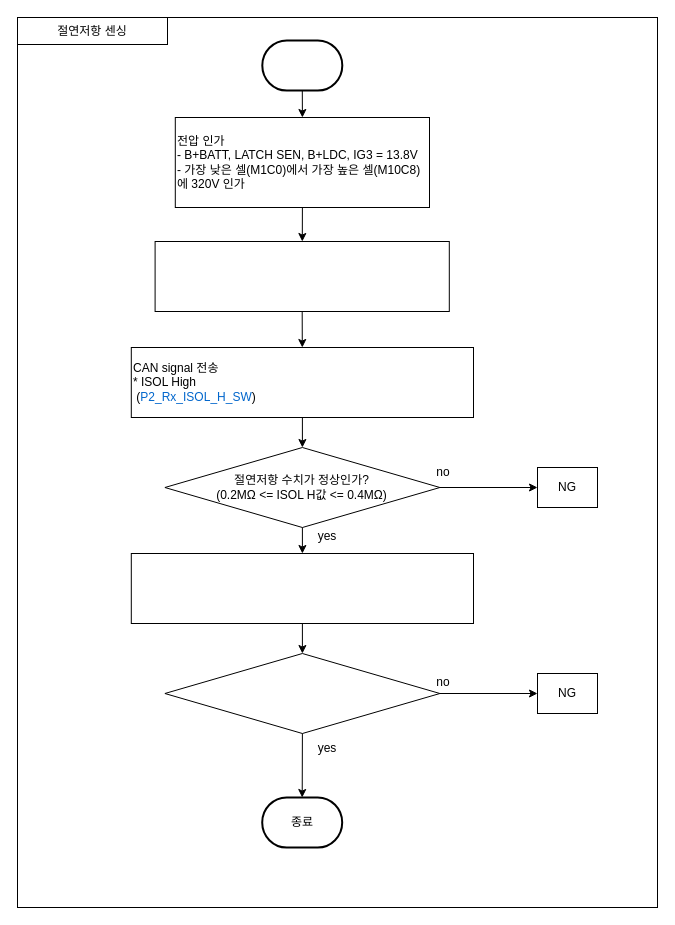
Image size: 675x925. Some labels were removed from this diagram. The shapes that lost their labels are listed below. From the top down, each one's centre as x and y in pixels, then its label:
point (302, 65): 시작
point (301, 276): 환경 설정 - 가장 높은 셀과 가장 낮은 셀에 각각 300K 저항을 연결한 후에 GND에 연결
point (302, 588): CAN signal 전송 * ISOL Low ( P2_Rx_ISOL_L_SW )
point (302, 693): 절연저항 수치가 정상인가? (0.2MΩ <= ISOL L값 <= 0.4MΩ)
